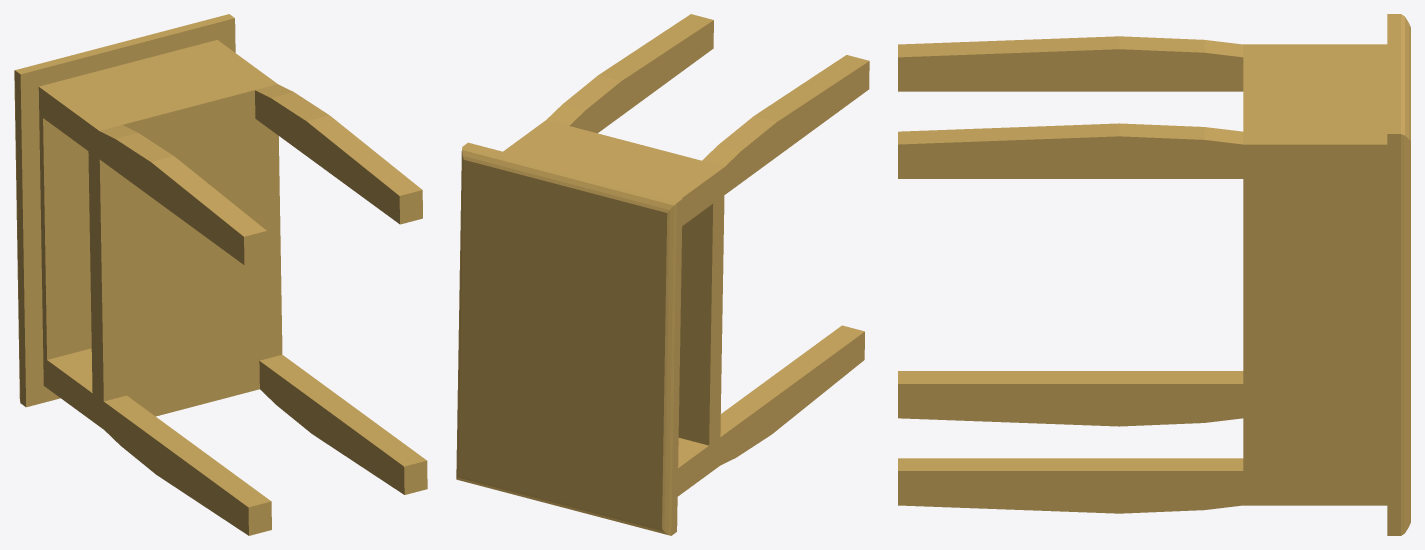
The model's file is LittleSideTable.fbx.
3 renders of one model, left to right at view 1: azimuth 30°, elevation 25°; view 2: azimuth 150°, elevation 25°; view 3: azimuth 270°, elevation 25°, orthographic. The views are drawn at different scales.
Parts seen in each view (by area): view 1: LittleSideTable; view 2: LittleSideTable; view 3: LittleSideTable.
Part boxes in pixels (left/top/right/bottom): LittleSideTable: left=14, top=14, right=427, bottom=535; LittleSideTable: left=456, top=14, right=869, bottom=535; LittleSideTable: left=898, top=14, right=1410, bottom=535.
Bounding box in the file's own units: 46.45 × 68.22 × 78.6.
